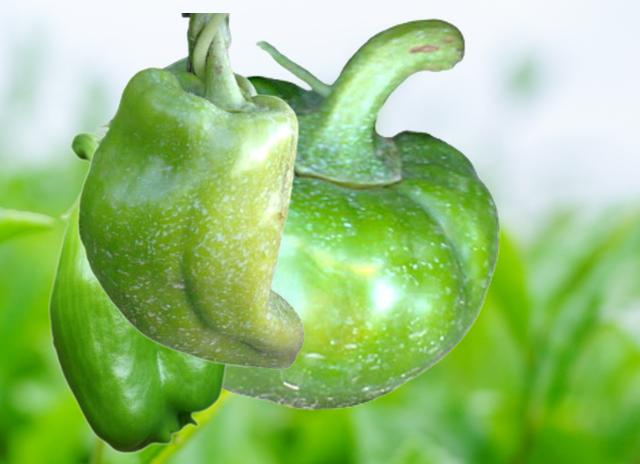bell_pepper: (223, 17, 499, 409), (76, 13, 304, 368), (47, 131, 228, 453)
